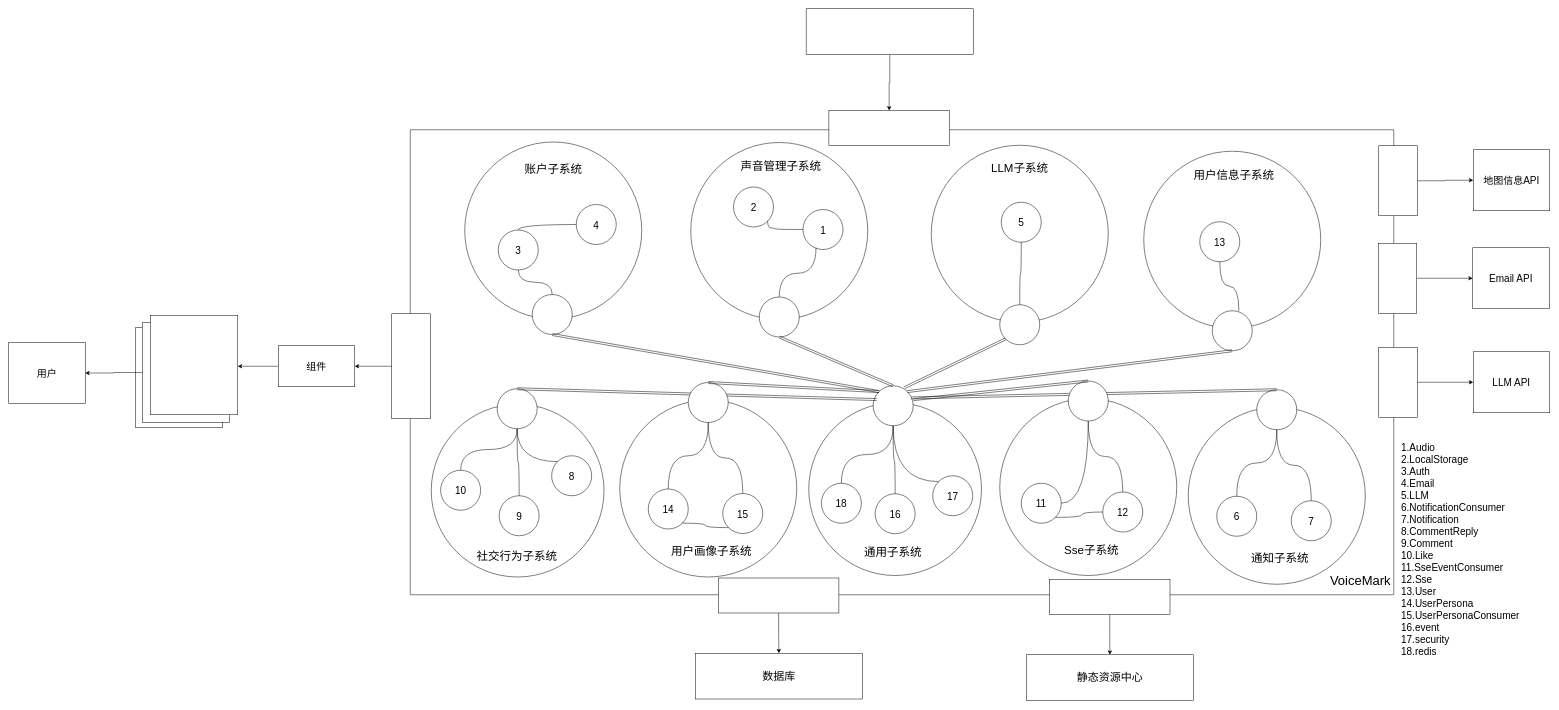
Some shapes in this 1559 by 710 pixel diagram are drawn without their labels. Each missing label, with the box of its shape:
Web Pages: (150, 315, 238, 415)
运维系统: (806, 8, 973, 54)
